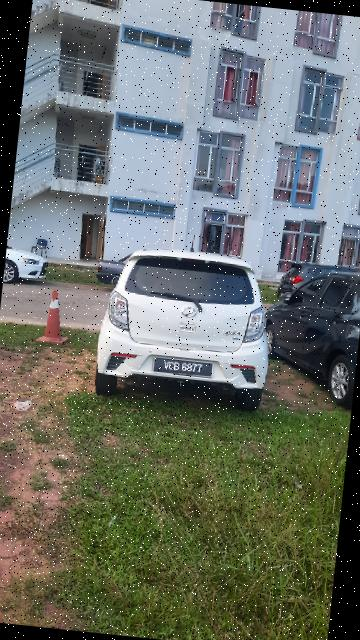License_Plate: (151, 353, 219, 381)
car: (89, 234, 285, 415)
